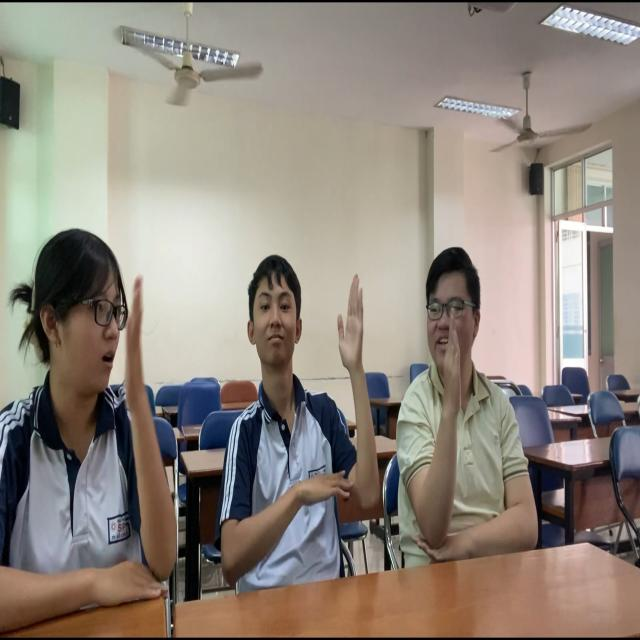raise_hand: (388, 220, 596, 640), (1, 208, 200, 640), (203, 240, 396, 606)
